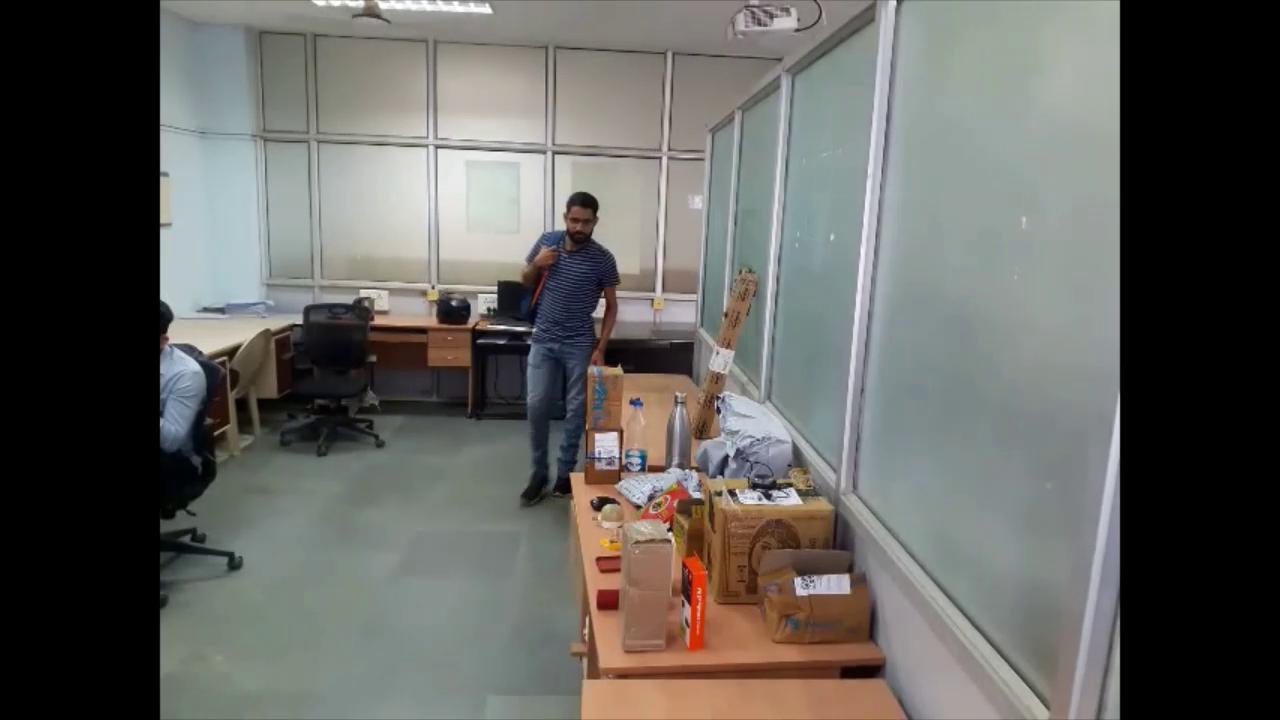Normal: (506, 188, 622, 520)
